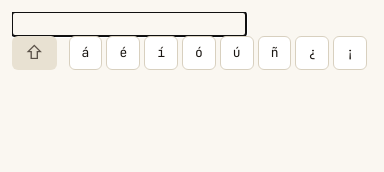
Test: AccentPicker › uppercase › leaves Spanish punctuation unchanged under Shift
Step 1. Click the button named "uppercase" → click(34, 53), box x1=12 y1=36 x2=57 y2=70
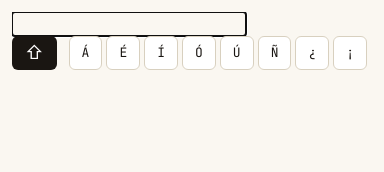
Step 2. Click the button named "insert ¿" → click(312, 53), box x1=295 y1=36 x2=329 y2=70
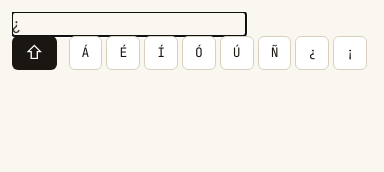
Expected: the field with test id "target" holds "¿", x1=12 y1=12 x2=246 y2=36
